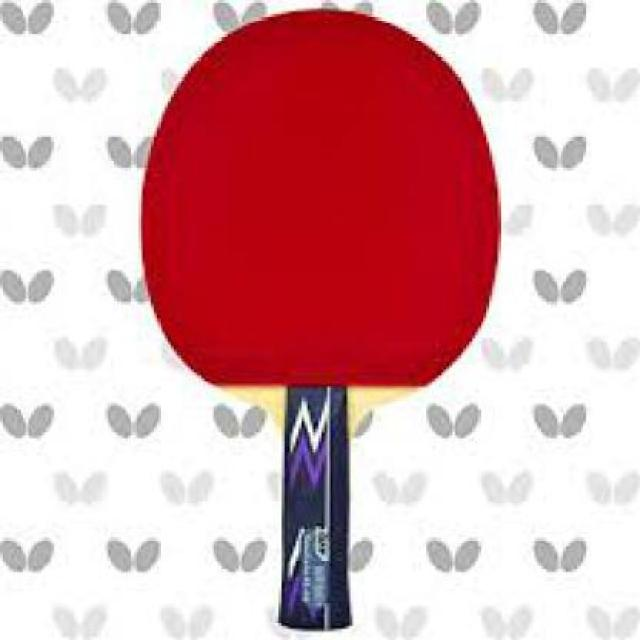table_tennis_racket: (138, 5, 504, 430)
